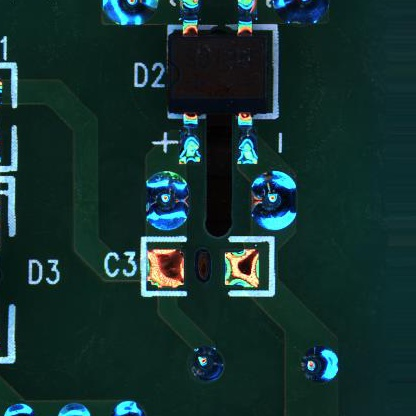spot: (251, 168, 299, 231), (144, 171, 192, 232), (299, 343, 343, 382), (187, 344, 229, 384)
